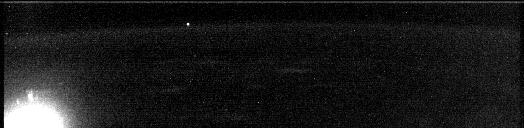positive: (13, 87, 41, 104)
